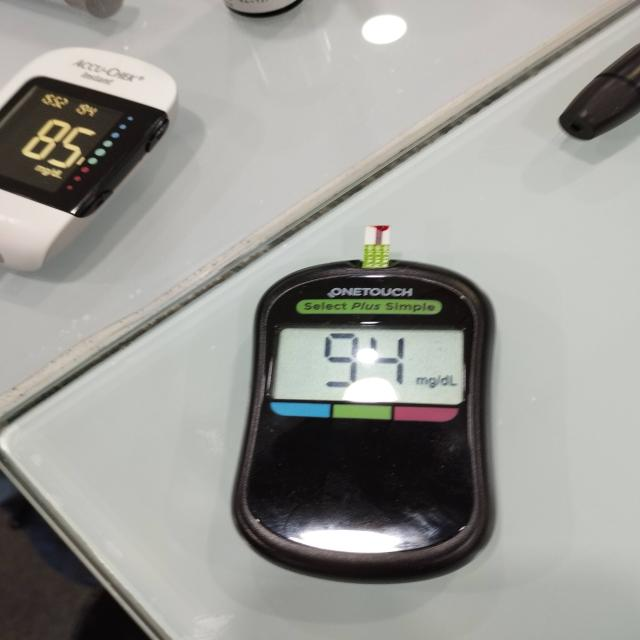gluco: (225, 225, 567, 584)
